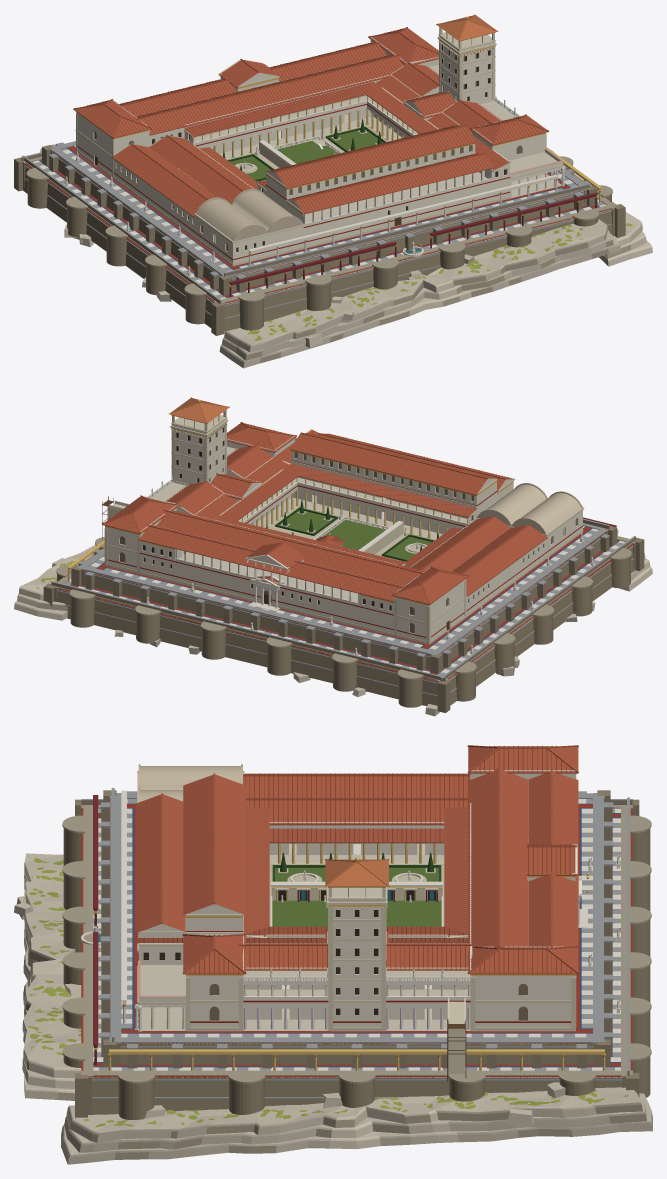
Rendered from rome_transitoria_parts.glb.
The picture shows the model from 3 angles, top to bottom: view 1: azimuth 30°, elevation 25°; view 2: azimuth 150°, elevation 25°; view 3: azimuth 270°, elevation 25°; orthographic projection. The views are drawn at different scales.
Visible parts, largest first — view 1: tr_base, tr_roof, tr_f1, tr_f2, tr_f3, tr_tower, tr_garden, room_2S04, room_2P01, room_P01, room_P05, room_2S16; view 2: tr_base, tr_roof, tr_f1, tr_f2, tr_f3, tr_garden, tr_tower, room_2N01, room_P05, room_P02, room_2P02; view 3: tr_base, tr_roof, tr_f2, tr_f1, tr_tower, tr_garden, tr_f3, room_P05, room_2S16, room_P03, room_S16, room_E05 (+1 smaller).
Boxes of the visible parts, bbox=[...] form: tr_base: bbox=[14, 96, 652, 368]; tr_roof: bbox=[73, 27, 563, 242]; tr_f1: bbox=[76, 105, 565, 266]; tr_f2: bbox=[75, 37, 546, 227]; tr_f3: bbox=[265, 36, 494, 199]; tr_tower: bbox=[436, 14, 498, 103]; tr_garden: bbox=[223, 119, 388, 181]; room_2S04: bbox=[303, 172, 487, 223]; room_2P01: bbox=[193, 96, 374, 145]; room_P01: bbox=[219, 116, 380, 158]; room_P05: bbox=[277, 141, 337, 163]; room_2S16: bbox=[509, 152, 562, 172]; tr_base: bbox=[14, 517, 652, 716]; tr_roof: bbox=[102, 422, 584, 604]; tr_f1: bbox=[104, 486, 583, 644]; tr_f2: bbox=[102, 429, 514, 642]; tr_f3: bbox=[172, 419, 497, 505]; tr_garden: bbox=[266, 500, 438, 561]; tr_tower: bbox=[169, 397, 229, 484]; room_2N01: bbox=[179, 552, 358, 602]; room_P05: bbox=[323, 520, 385, 550]; room_P02: bbox=[284, 497, 442, 538]; room_2P02: bbox=[289, 477, 467, 522]; tr_base: bbox=[14, 788, 652, 1164]; tr_roof: bbox=[135, 745, 578, 1001]; tr_f2: bbox=[137, 770, 576, 1081]; tr_f1: bbox=[134, 772, 589, 1031]; tr_tower: bbox=[325, 857, 389, 1027]; tr_garden: bbox=[269, 852, 444, 926]; tr_f3: bbox=[185, 898, 385, 978]; room_P05: bbox=[272, 900, 441, 926]; room_2S16: bbox=[140, 965, 185, 1001]; room_P03: bbox=[269, 854, 444, 862]; room_S16: bbox=[141, 1007, 184, 1030]; room_E05: bbox=[244, 1019, 327, 1030].
Bounding box in the file's own units: 153 × 58.8 × 134.
